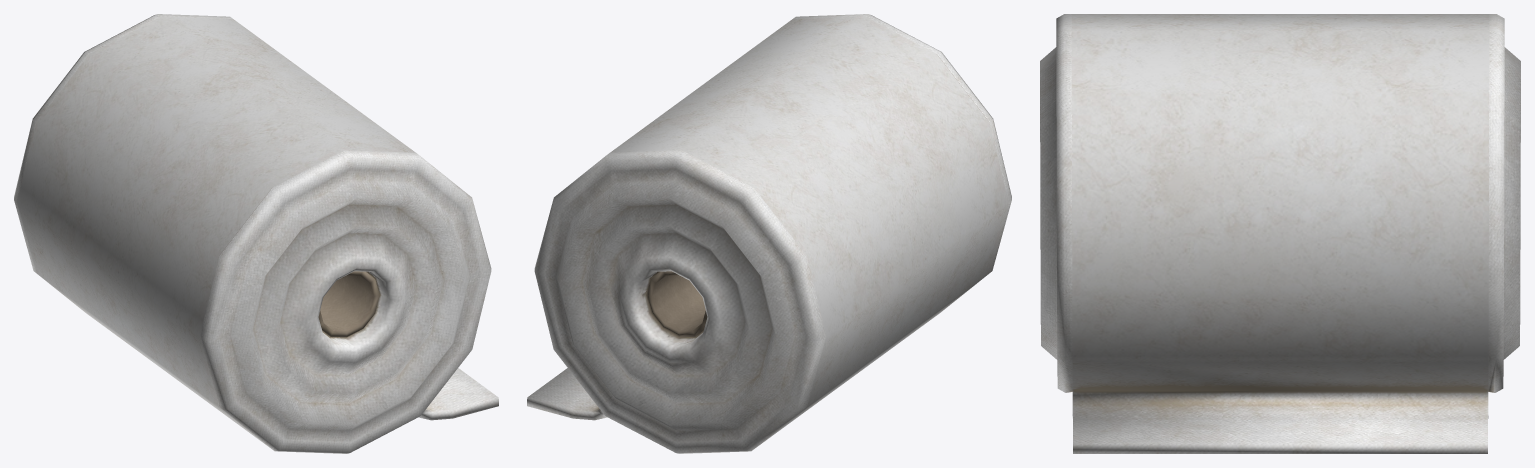
File: Bandage.fbx
The picture shows the model from 3 angles, left to right: view 1: azimuth 30°, elevation 25°; view 2: azimuth 150°, elevation 25°; view 3: azimuth 270°, elevation 25°; orthographic projection. The views are drawn at different scales.
Visible parts, largest first — view 1: bandage; view 2: bandage; view 3: bandage.
Boxes of the visible parts, bbox=[...] form: bandage: bbox=[14, 14, 498, 453]; bandage: bbox=[527, 14, 1011, 453]; bandage: bbox=[1040, 14, 1520, 453].
Bounding box in the file's own units: 7.44 × 7.16 × 9.05.
1 material, 1 textured.
